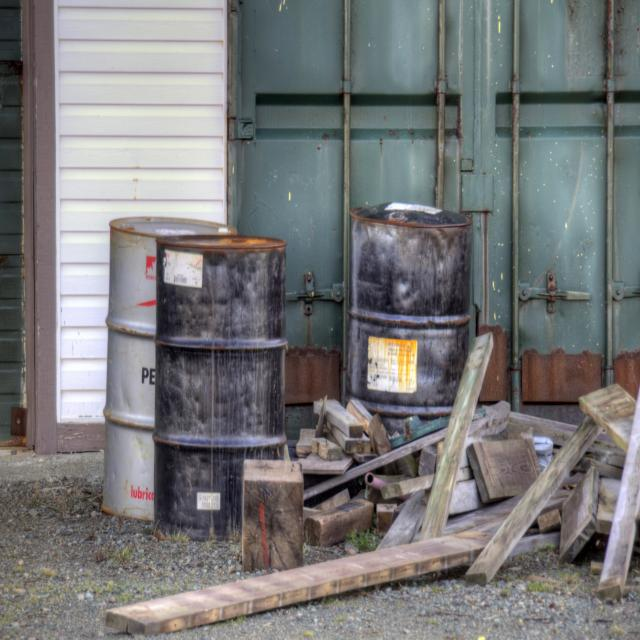metal: (104, 208, 283, 466), (352, 193, 477, 382)
